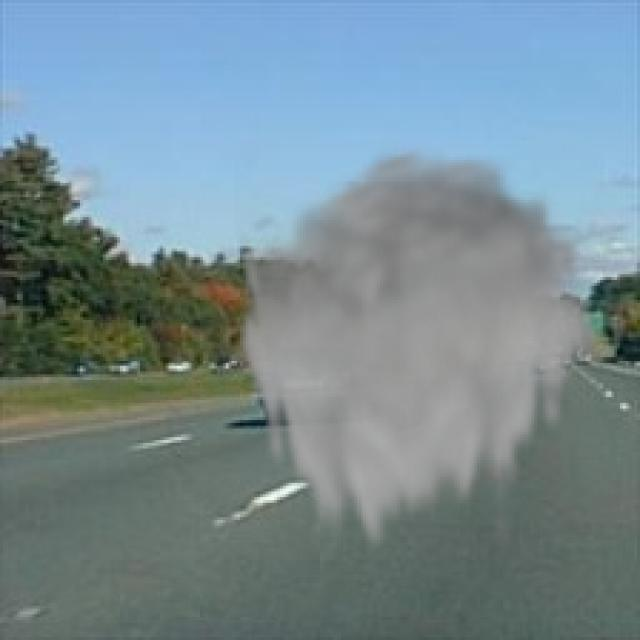smoke: (234, 140, 603, 566)
